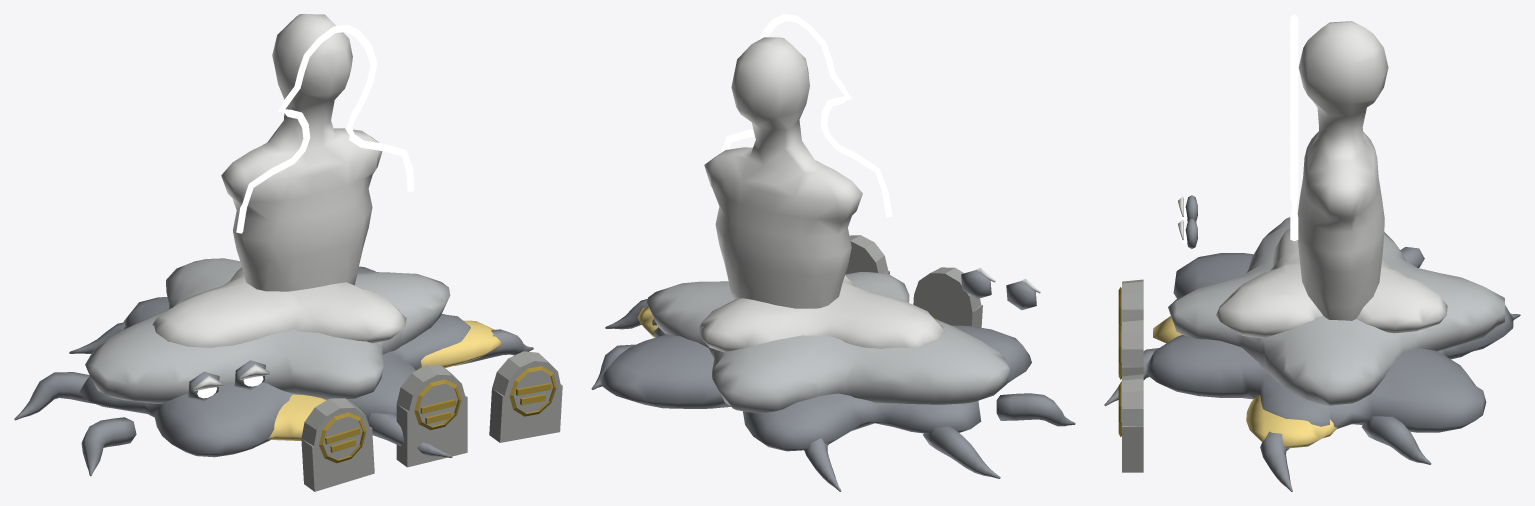
File: fog-mist-of-the-named-dead.glb
The picture shows the model from 3 angles, left to right: view 1: azimuth 30°, elevation 25°; view 2: azimuth 150°, elevation 25°; view 3: azimuth 270°, elevation 25°; orthographic projection. The views are drawn at different scales.
Visible parts, largest first — view 1: pulse_fog, pulse_fog_shape, fog_mist_of_the_named_dead, sway_edge, pulse_light; view 2: pulse_fog, pulse_fog_shape, sway_edge, fog_mist_of_the_named_dead, pulse_light; view 3: pulse_fog, pulse_fog_shape, fog_mist_of_the_named_dead, sway_edge, pulse_light.
Boxes of the visible parts, x1,y1,x2,y2 form: pulse_fog: (78, 258, 501, 457); pulse_fog_shape: (221, 14, 382, 291); fog_mist_of_the_named_dead: (301, 351, 562, 491); sway_edge: (14, 322, 533, 476); pulse_light: (236, 24, 414, 233); pulse_fog: (600, 267, 1040, 451); pulse_fog_shape: (704, 37, 862, 308); sway_edge: (591, 299, 1075, 491); fog_mist_of_the_named_dead: (845, 235, 982, 327); pulse_light: (721, 14, 892, 217); pulse_fog: (1146, 195, 1513, 448); pulse_fog_shape: (1297, 21, 1388, 320); fog_mist_of_the_named_dead: (1118, 279, 1143, 472); sway_edge: (1104, 247, 1520, 491); pulse_light: (1290, 14, 1298, 241).
Size of the model in its own units: 0.9997 by 0.7812 by 0.7604.
